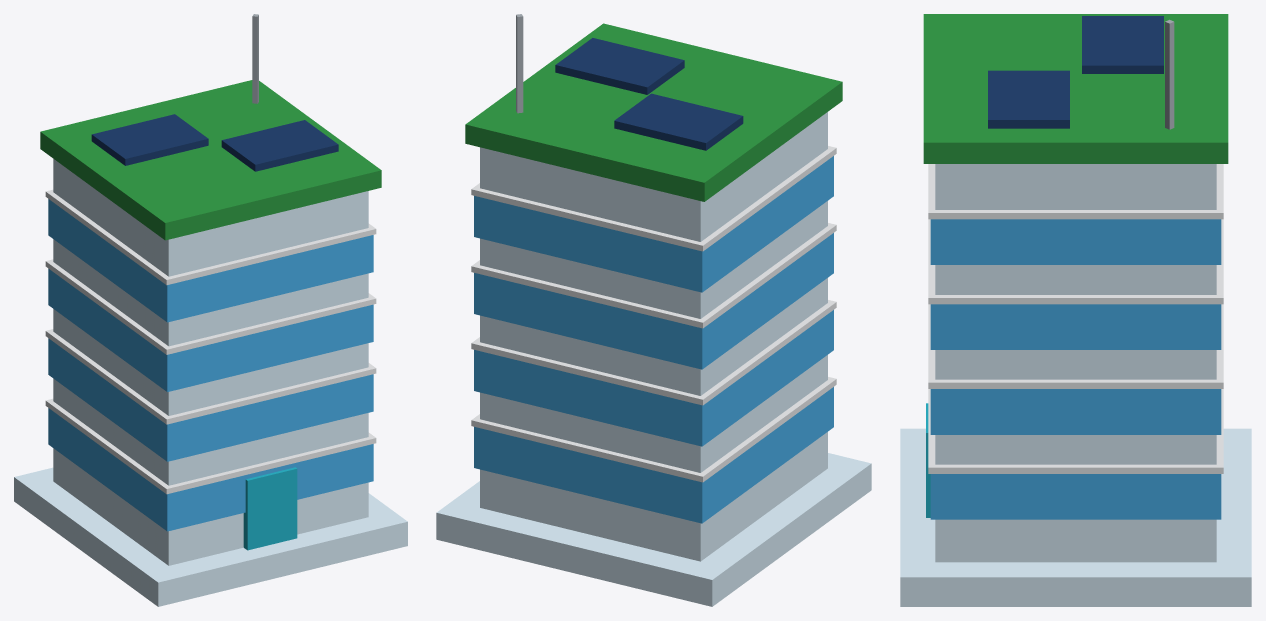
The model's file is house_5.glb.
3 views of the same model, side by side, from view 1: azimuth 30°, elevation 25°; view 2: azimuth 150°, elevation 25°; view 3: azimuth 270°, elevation 25° (orthographic). The views are drawn at different scales.
Parts seen in each view (by area): view 1: vidro_gelo, vidro_azul, verde_teto, branco, azul_marinho, petroleo, pedra.002; view 2: vidro_gelo, vidro_azul, verde_teto, branco, azul_marinho, pedra.002; view 3: vidro_gelo, vidro_azul, verde_teto, branco, azul_marinho, pedra.002.
Boxes of the visible parts, <box> form: vidro_gelo: <box>14,159,407,606</box>; vidro_azul: <box>48,199,373,531</box>; verde_teto: <box>40,80,381,240</box>; branco: <box>45,189,376,494</box>; azul_marinho: <box>91,114,338,171</box>; petroleo: <box>243,467,297,550</box>; pedra.002: <box>252,14,258,103</box>; vidro_gelo: <box>436,112,871,606</box>; vidro_azul: <box>474,156,833,523</box>; verde_teto: <box>465,23,842,201</box>; branco: <box>471,146,836,482</box>; azul_marinho: <box>555,38,743,150</box>; pedra.002: <box>516,14,523,113</box>; vidro_gelo: <box>900,164,1251,606</box>; vidro_azul: <box>930,219,1221,519</box>; verde_teto: <box>923,14,1228,163</box>; branco: <box>928,164,1223,473</box>; azul_marinho: <box>988,16,1163,128</box>; pedra.002: <box>1165,19,1174,129</box>.
Size of the model in its own units: 1.5 by 2.64 by 1.5.
